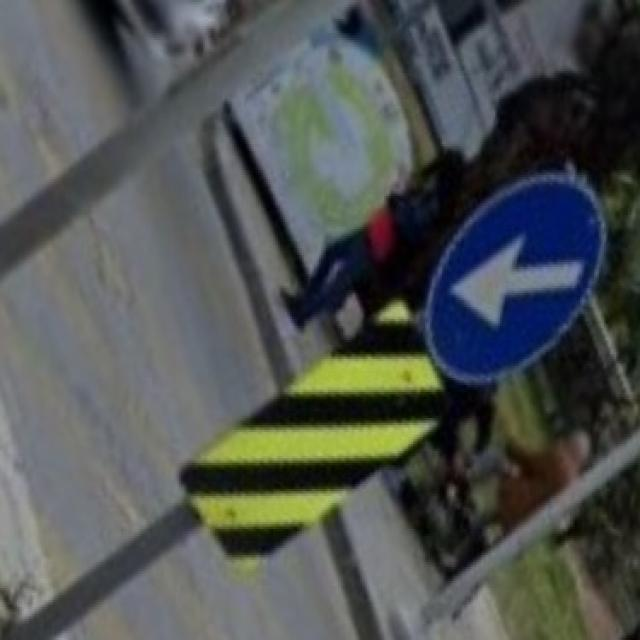Turn Left: (433, 171, 602, 374)
